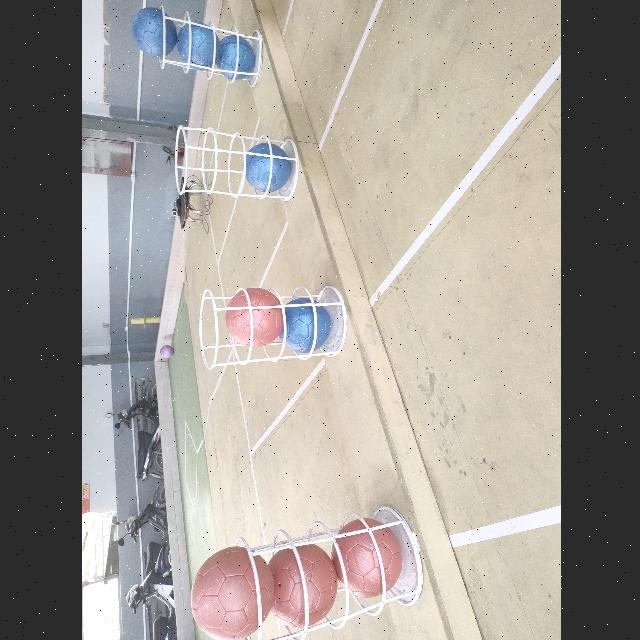B: (126, 3, 176, 59), (278, 302, 324, 353), (242, 138, 284, 192), (170, 26, 218, 70), (213, 36, 251, 82)
R: (185, 546, 272, 640), (330, 518, 402, 598), (266, 542, 332, 626), (221, 288, 281, 348)
